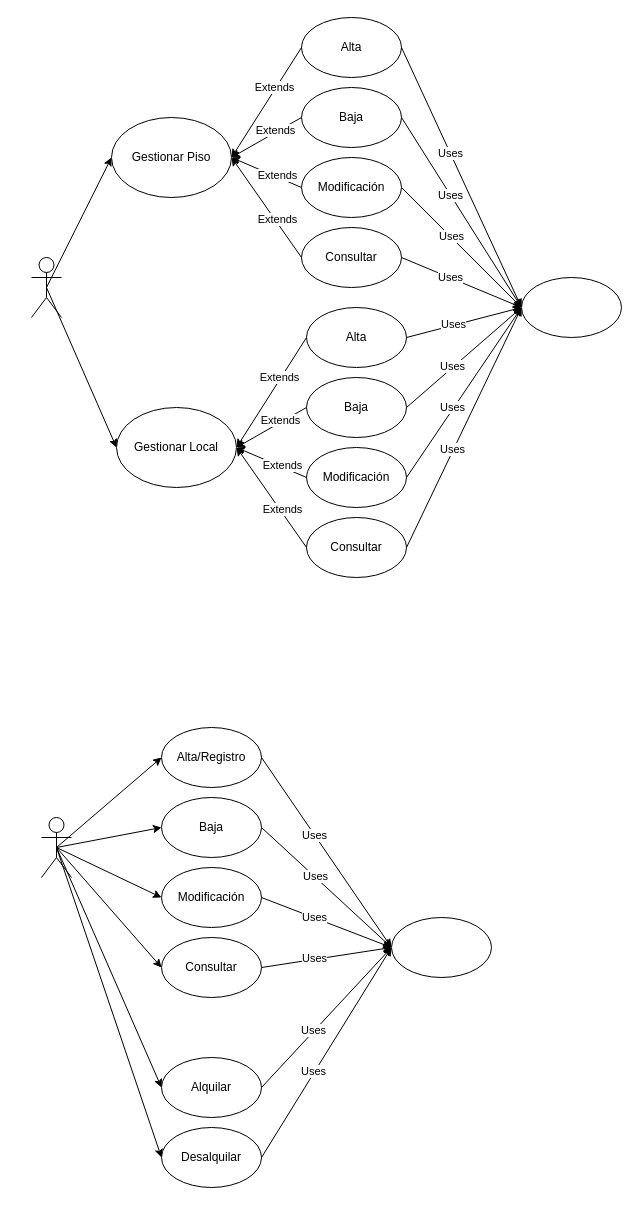
Image size: 639x1205. Some labels were removed from this diagram. Here are the shapes that lost their labels. From the top down, the centre of each, then its label:
At (46,287): "Propietario".
At (571,307): "Buscar".
At (56,847): "Inquilino".
At (441,947): "Identificar".
